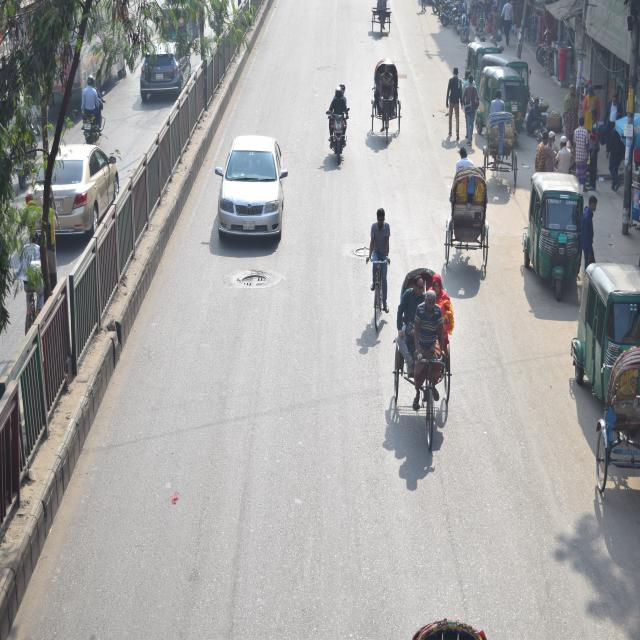car: (21, 137, 118, 235), (214, 128, 288, 255), (141, 28, 190, 103)
motorbike: (316, 101, 352, 175), (78, 82, 114, 147), (452, 4, 472, 43)
